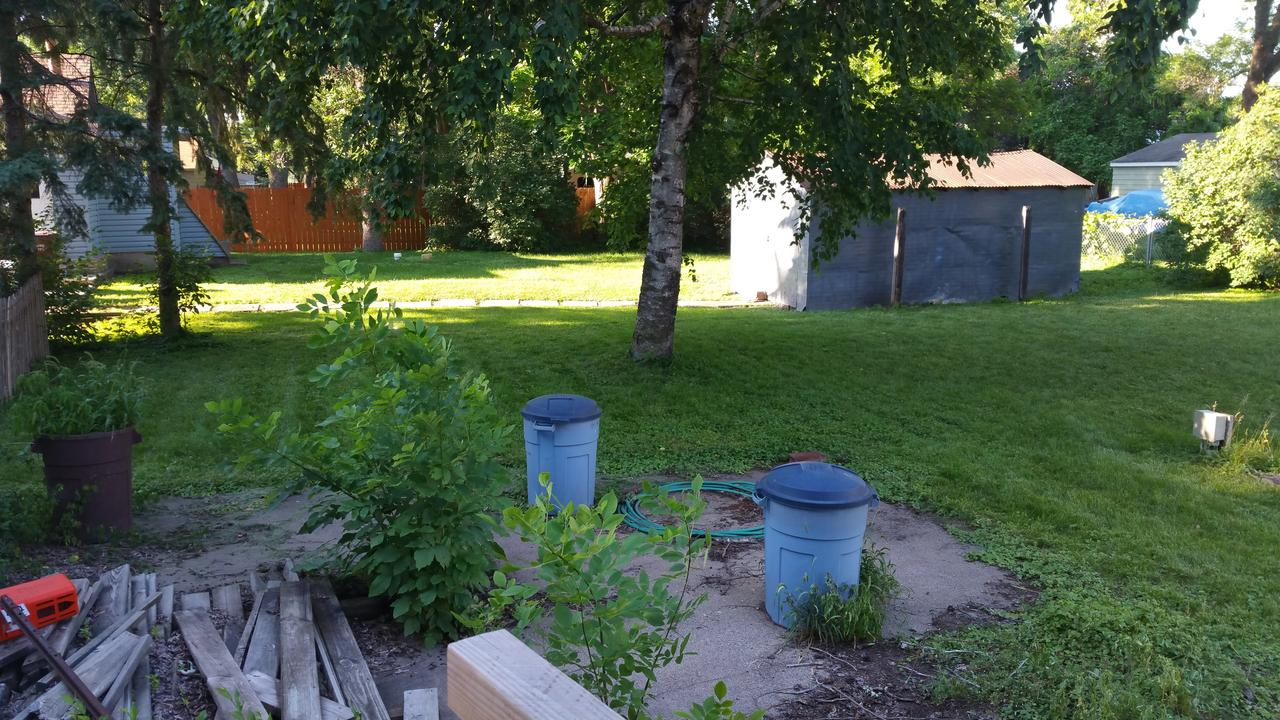crabgrass: (803, 582, 899, 653)
